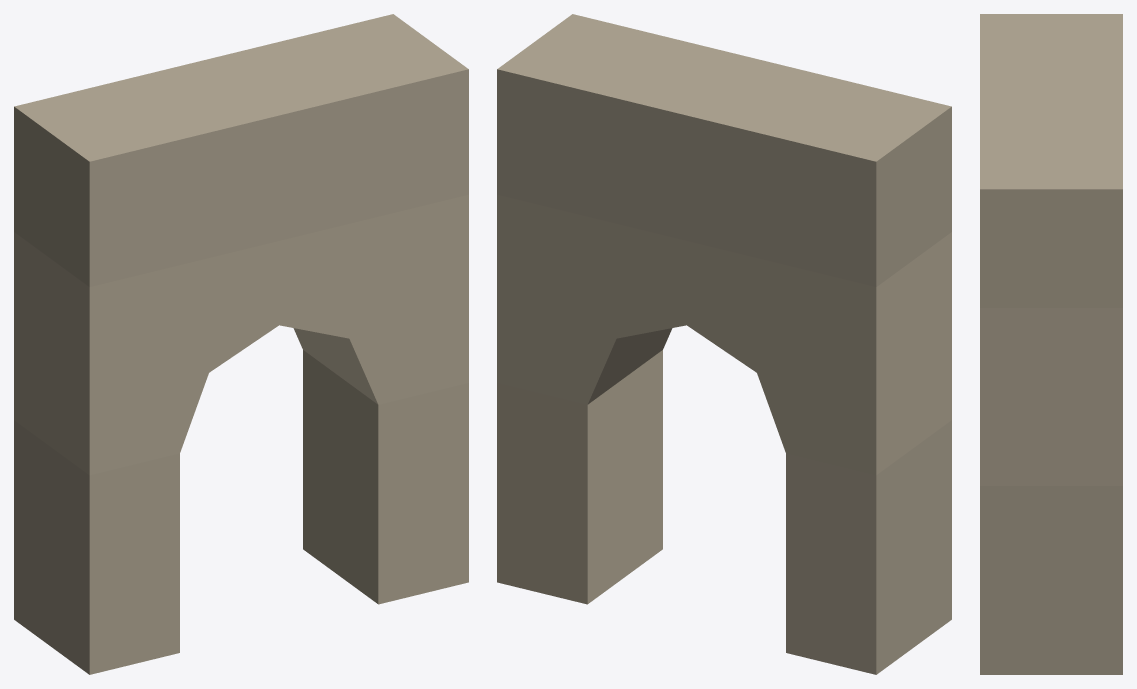
3 renders of one model, left to right at view 1: azimuth 30°, elevation 25°; view 2: azimuth 150°, elevation 25°; view 3: azimuth 270°, elevation 25°, orthographic. The views are drawn at different scales.
Parts seen in each view (by area): view 1: washington-square-arch-lod3; view 2: washington-square-arch-lod3; view 3: washington-square-arch-lod3.
Part boxes in pixels (box(x1,y1,x2,y2)): washington-square-arch-lod3: box(14, 14, 468, 674); washington-square-arch-lod3: box(497, 14, 951, 674); washington-square-arch-lod3: box(980, 14, 1122, 674).
Bounding box in the file's own units: 34.8 × 45 × 12.
